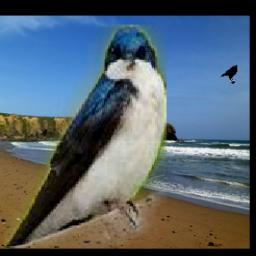Crow: (221, 64, 237, 84)
Swallow: (4, 26, 167, 249)
